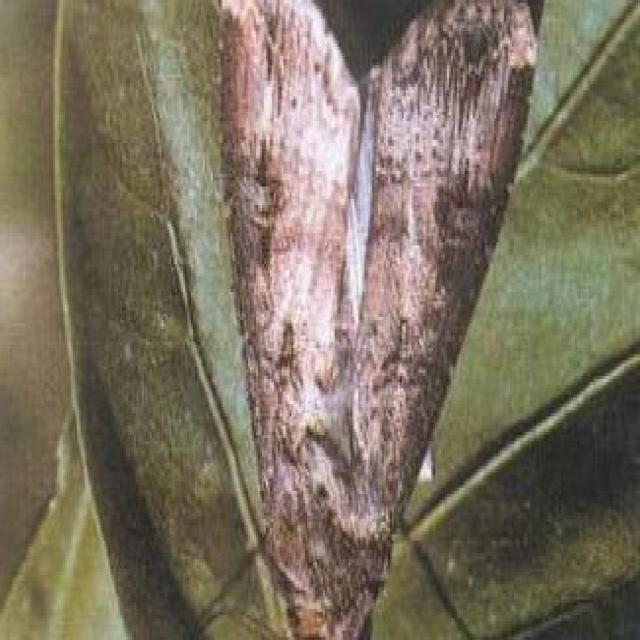black cutworm: (176, 4, 543, 638)
